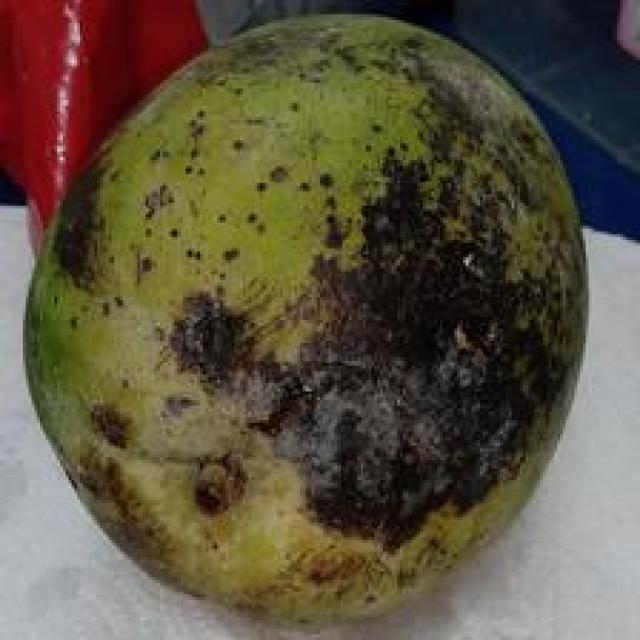Mango: (14, 13, 590, 624)
